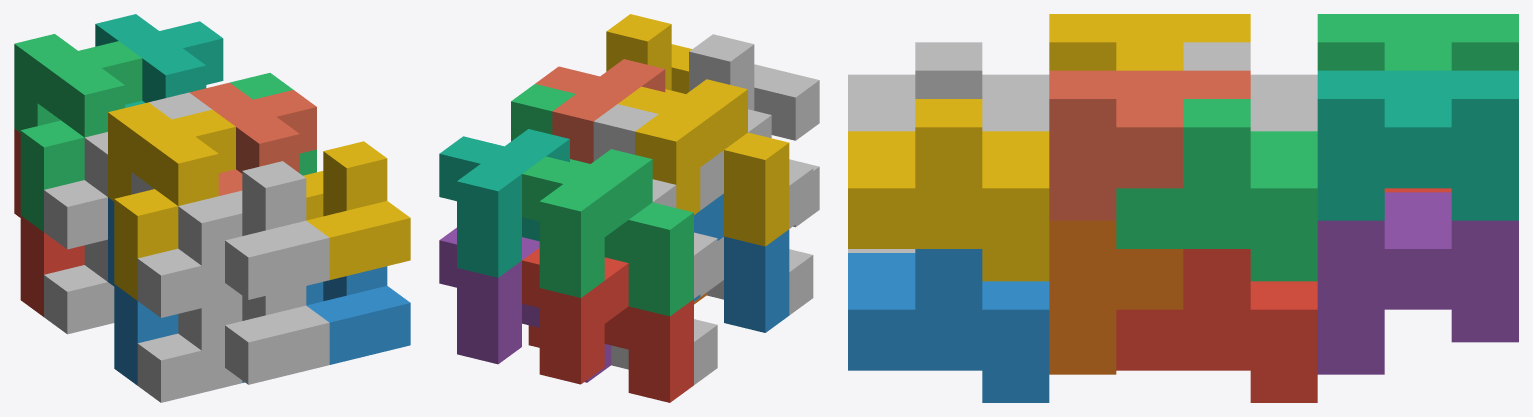
The model's file is tiling.obj.
The picture shows the model from 3 angles, left to right: view 1: azimuth 30°, elevation 25°; view 2: azimuth 150°, elevation 25°; view 3: azimuth 270°, elevation 25°; orthographic projection. The views are drawn at different scales.
Visible parts, largest first — view 1: copy_2_domain_4, copy_1_domain_4, copy_1_domain_3, copy_2_domain_2, copy_2_domain_8, copy_1_domain_8, copy_2_domain_6, copy_1_domain_7, copy_2_domain_3, copy_2_domain_1, copy_1_domain_1, copy_1_domain_2 (+1 smaller); view 2: copy_1_domain_3, copy_1_domain_4, copy_1_domain_1, copy_1_domain_7, copy_2_domain_4, copy_1_domain_5, copy_1_domain_2, copy_1_domain_8, copy_2_domain_3, copy_2_domain_8, copy_2_domain_7, copy_2_domain_2 (+1 smaller); view 3: copy_1_domain_7, copy_2_domain_8, copy_1_domain_5, copy_2_domain_7, copy_2_domain_6, copy_2_domain_5, copy_1_domain_8, copy_1_domain_6, copy_2_domain_4, copy_1_domain_3, copy_1_domain_4, copy_2_domain_3.
Boxes of the visible parts, x1,y1,x2,y2 form: copy_2_domain_4: (137,161,329,317); copy_1_domain_4: (108,102,235,300); copy_1_domain_3: (14,34,142,231); copy_2_domain_2: (137,286,329,402); copy_2_domain_8: (303,141,410,279); copy_1_domain_8: (189,82,316,195); copy_2_domain_6: (242,266,410,382); copy_1_domain_7: (95,14,223,107); copy_2_domain_3: (44,92,211,249); copy_2_domain_1: (44,239,114,334); copy_1_domain_1: (14,129,84,316); copy_1_domain_2: (108,197,178,385); copy_1_domain_3: (522,149,693,316); copy_1_domain_4: (618,79,789,246); copy_1_domain_1: (522,248,693,402); copy_1_domain_7: (439,129,569,277); copy_2_domain_4: (689,34,819,228); copy_1_domain_5: (439,227,611,382); copy_1_domain_2: (694,193,789,332); copy_1_domain_8: (535,59,665,163); copy_2_domain_3: (593,104,723,298); copy_2_domain_8: (606,14,692,96); copy_2_domain_7: (511,84,590,166); copy_2_domain_2: (706,159,819,315); copy_1_domain_7: (1317,70,1518,220); copy_2_domain_8: (848,99,1049,281); copy_1_domain_5: (1317,192,1518,374); copy_2_domain_7: (1116,99,1317,281); copy_2_domain_6: (848,249,1049,402); copy_2_domain_5: (1116,249,1317,402); copy_1_domain_8: (1049,70,1250,220); copy_1_domain_6: (1049,220,1183,374); copy_2_domain_4: (848,42,1049,131); copy_1_domain_3: (1317,14,1518,70); copy_1_domain_4: (1049,14,1250,70); copy_2_domain_3: (1183,42,1317,131).
Size of the model in its own units: 5 by 5 by 10.
